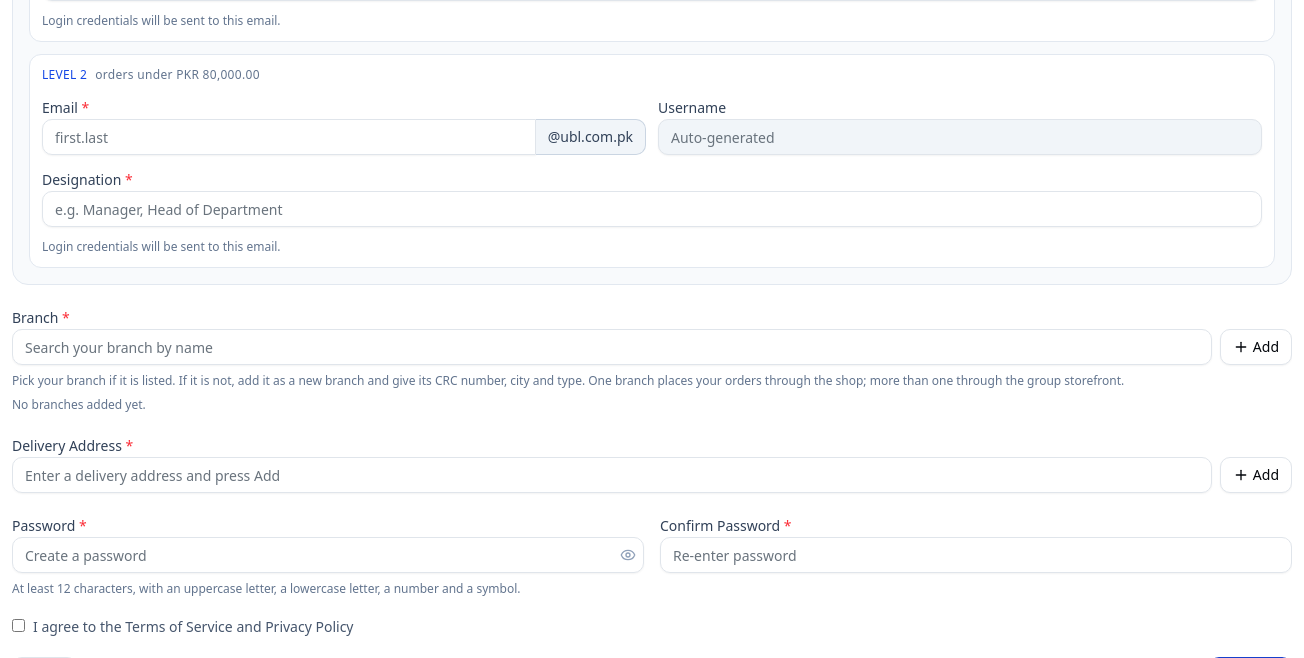
Test: DepartmentSignupForm › adds a listed branch when its name is typed in full, instead of creating it again
This screenshot has width=1304, height=658.
(page scrolled)
In the field with id "signup-branch": (612, 347) left=12, top=329, right=1212, bottom=365, type "  saddar BRANCH "
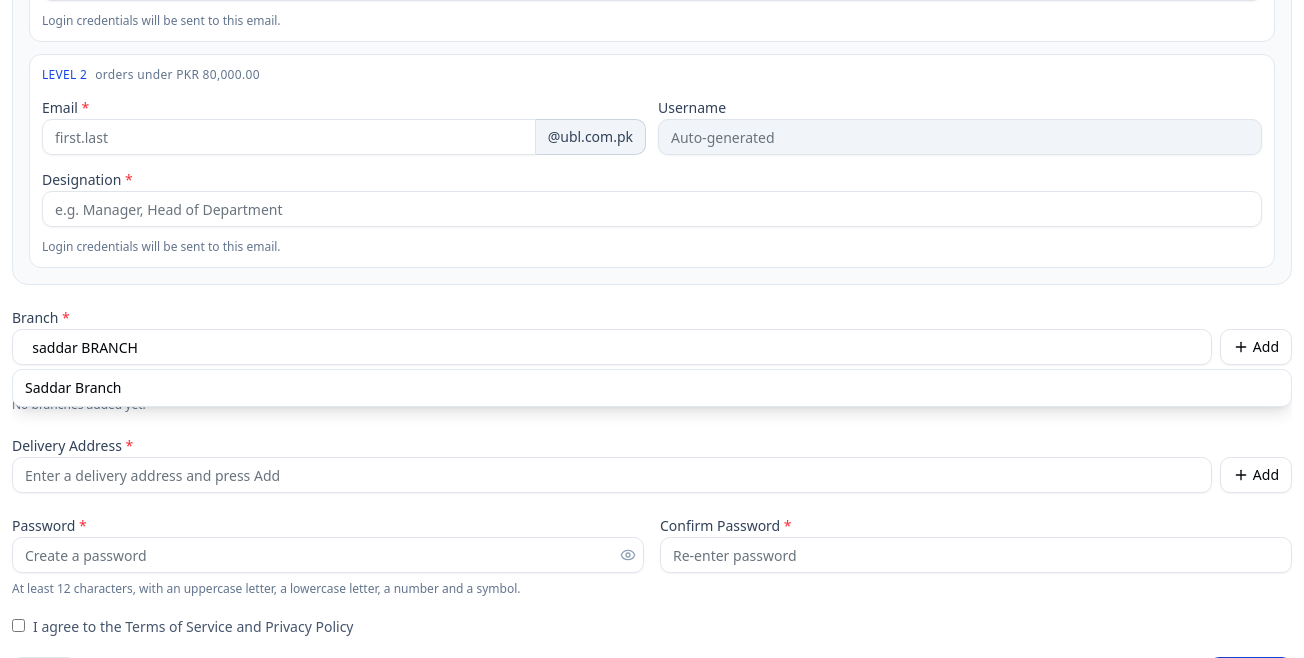
Click the 1st button "Add": (1256, 347) left=1220, top=329, right=1292, bottom=365
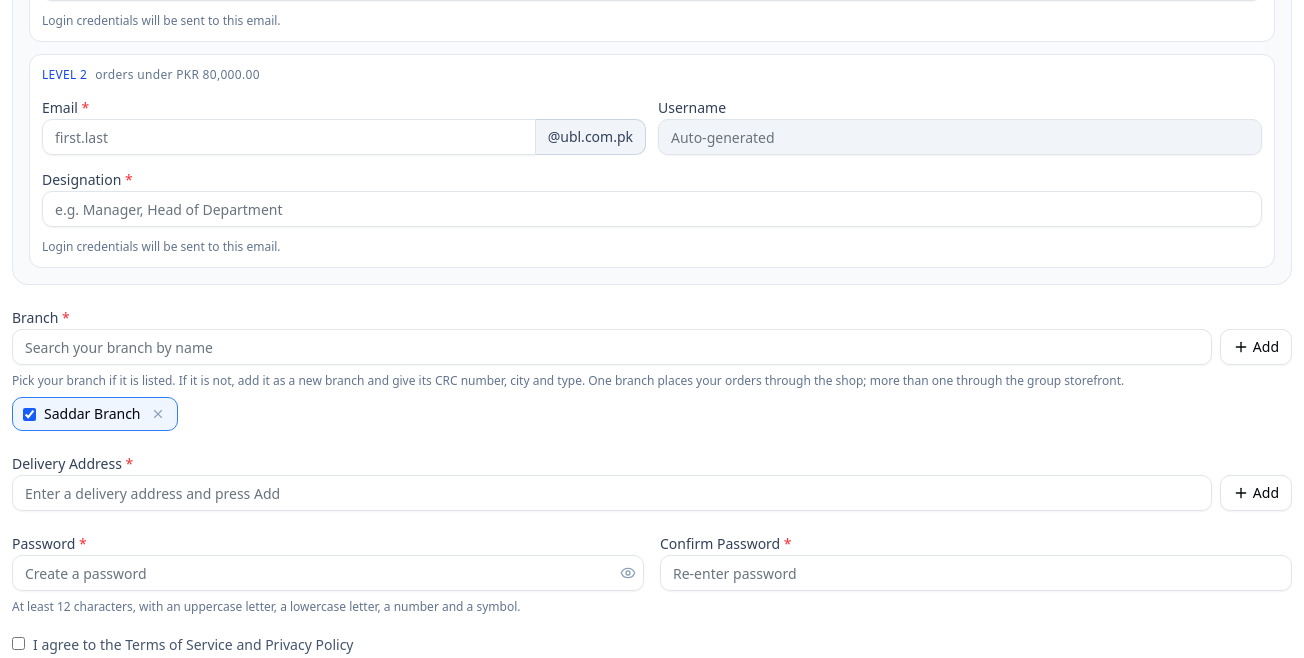
Now the checkbox labelled "Saddar Branch" is shown, box left=23, top=408, right=36, bottom=420
